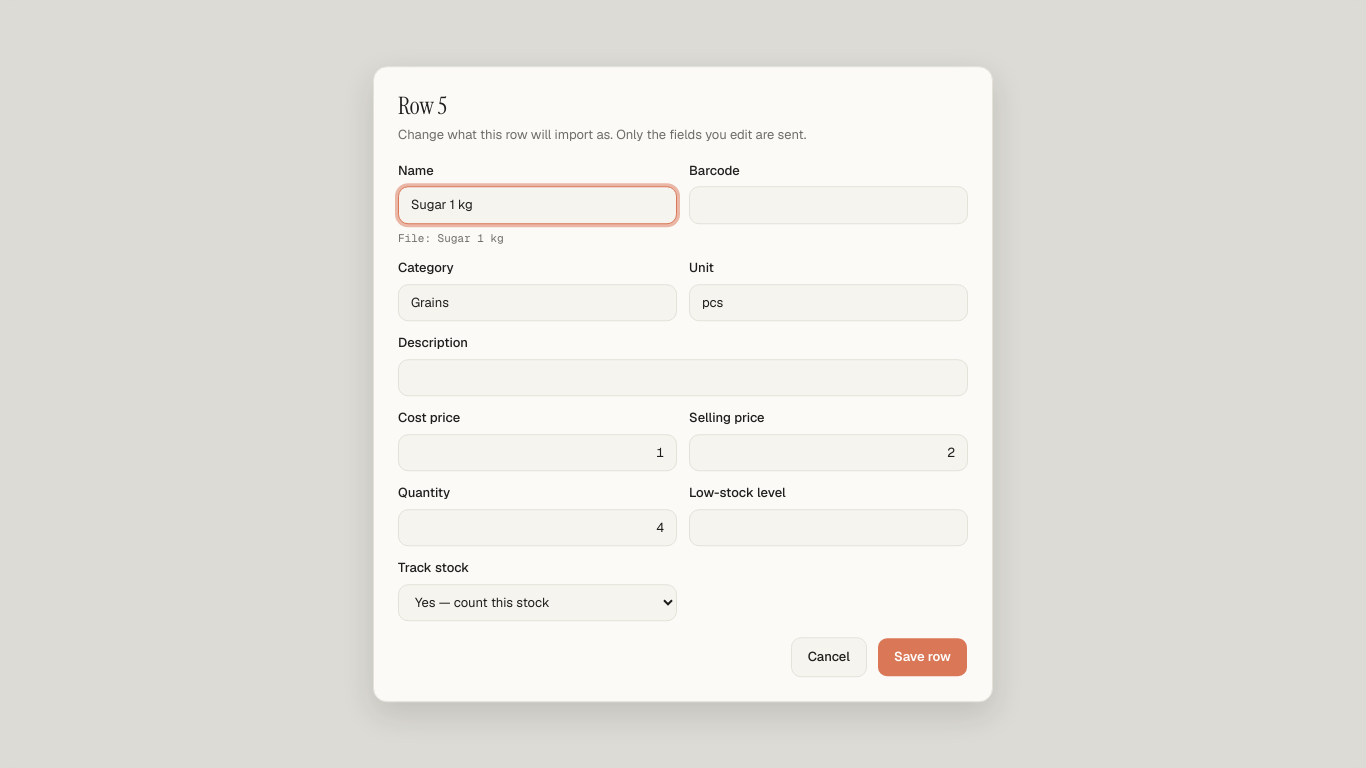
FixRowDialog — the body it sends › will not silently drop an emptied number, because it cannot be unset
Clear the field labelled "Quantity" at (538, 528), box [398,509,677,546]
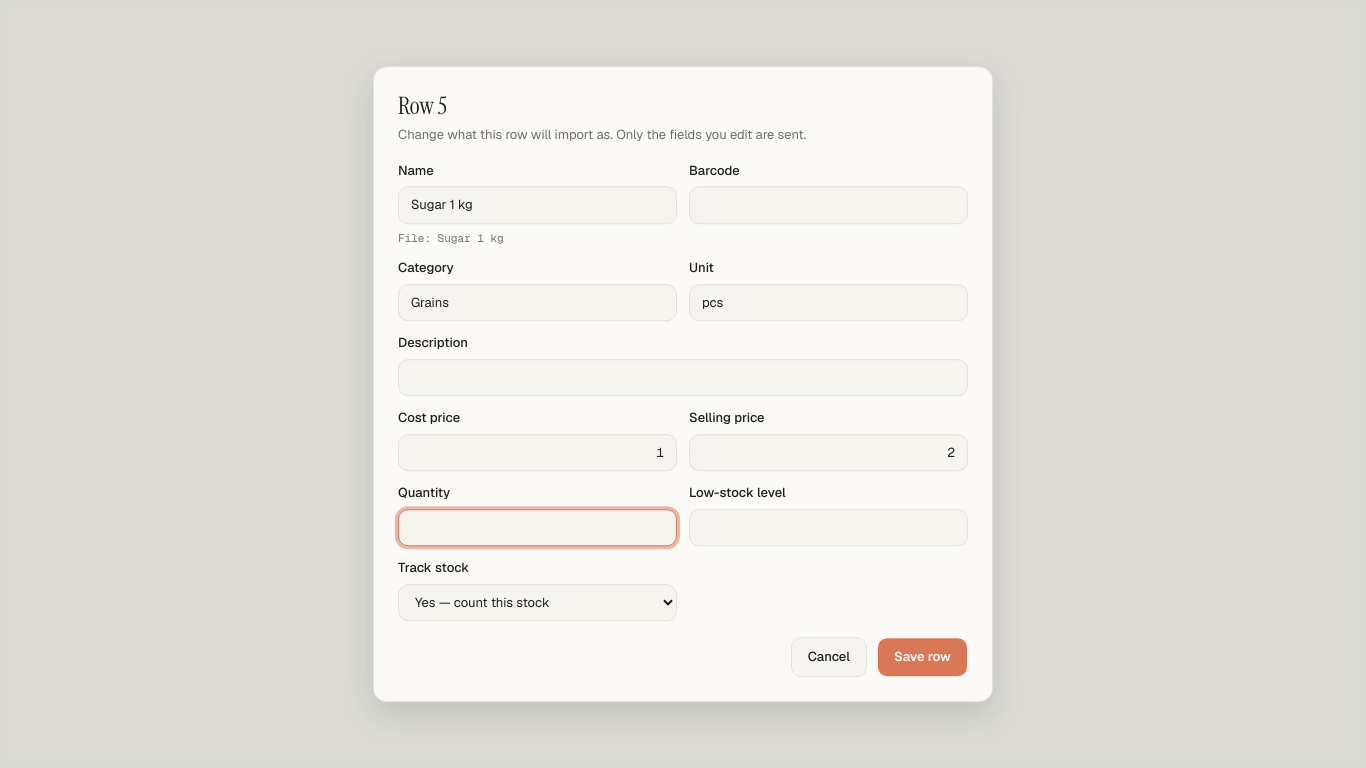
Click the button "Save row".
click(922, 657)  # box [877,637,968,677]
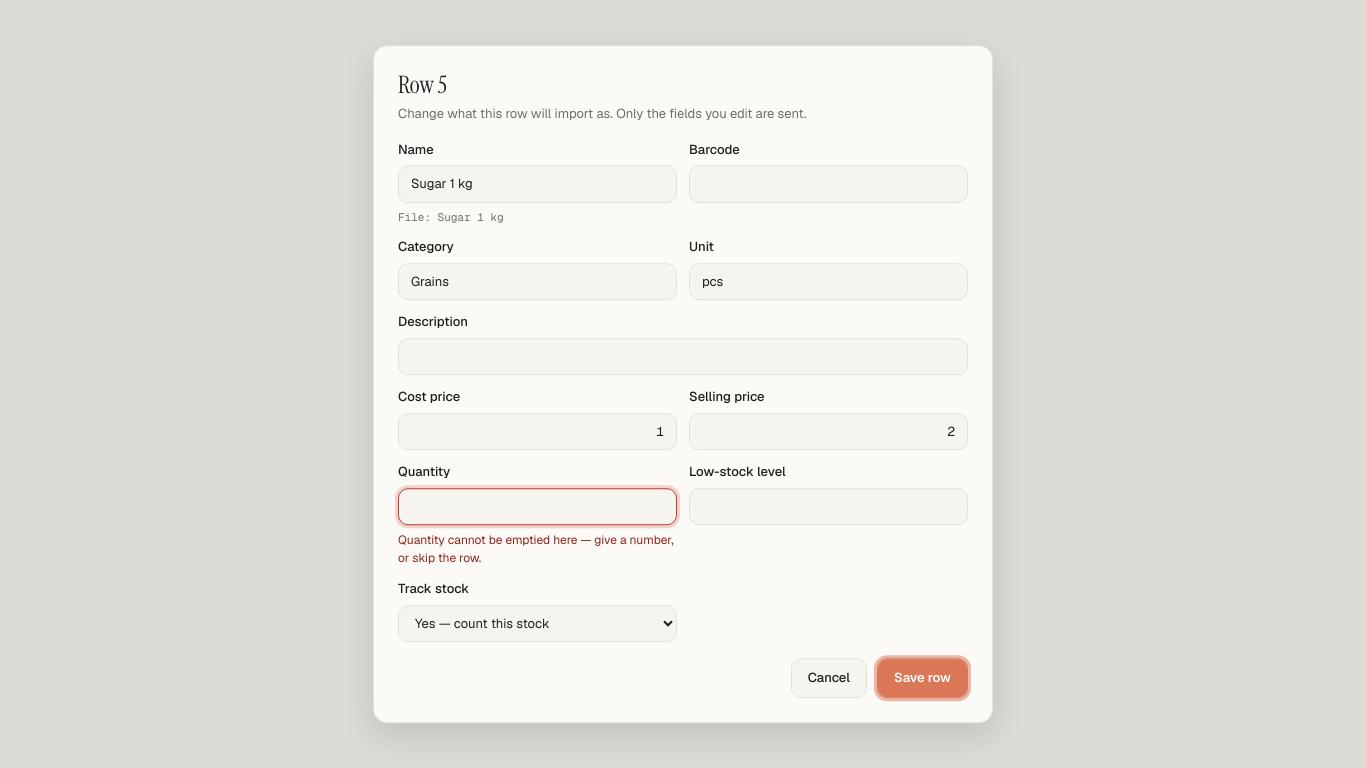
Now the text "Quantity cannot be emptied here — give a number, or skip the row." is shown, box [398,531,677,567]
